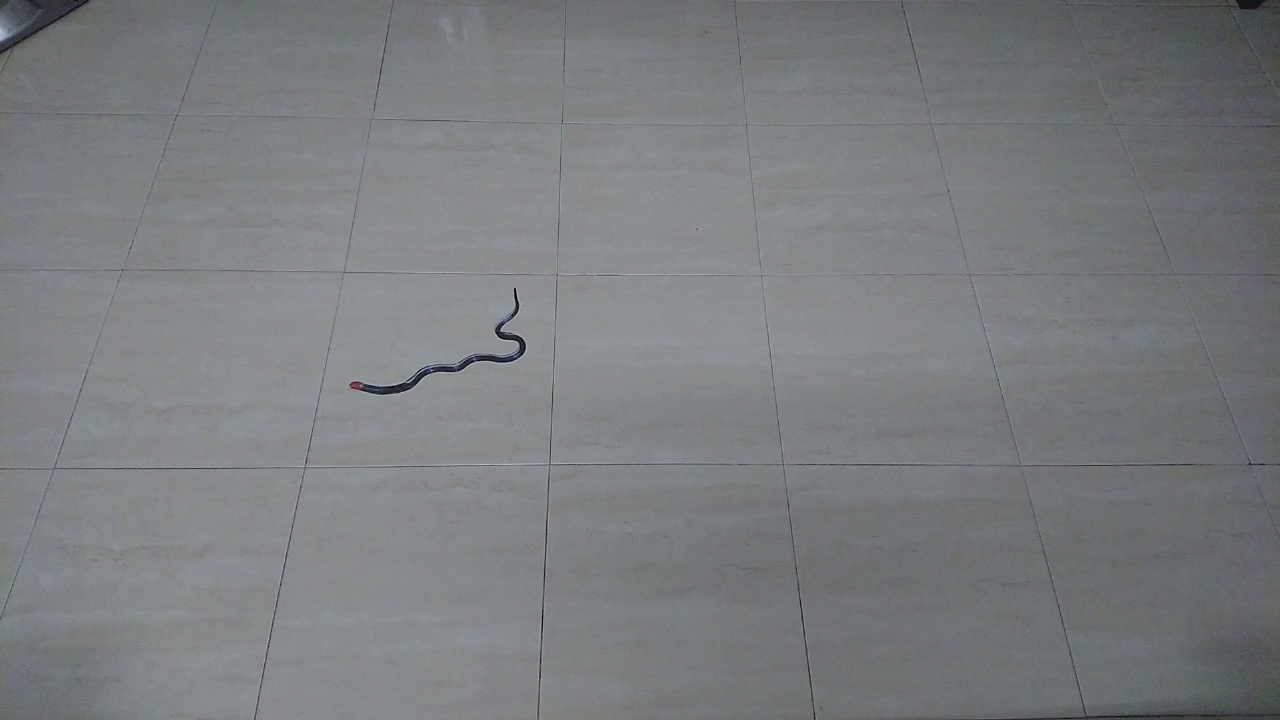snake: (330, 274, 542, 407)
